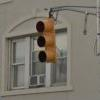traffic lights: (35, 17, 58, 64)
